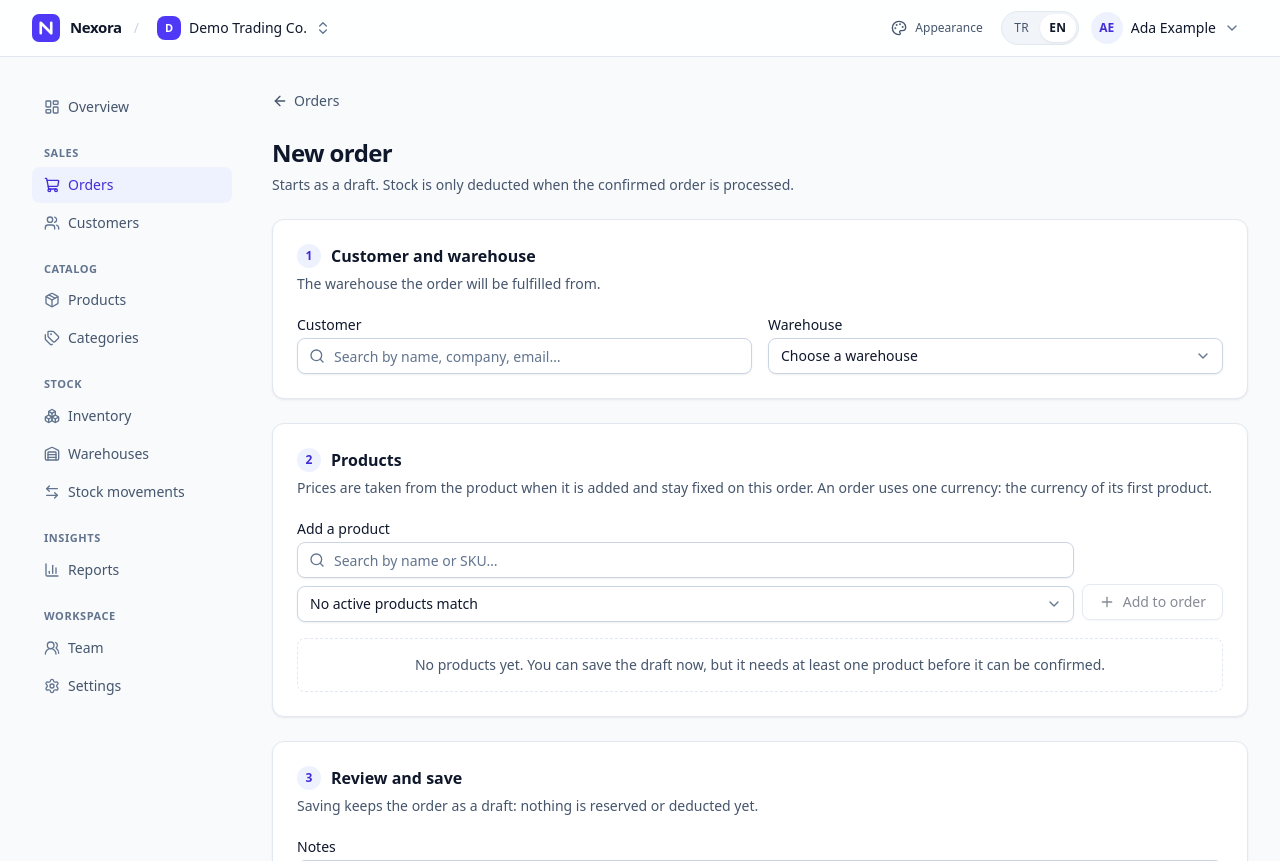
Test: CustomerPicker › shows loading while the first page is on its way
Expected: the heading "New order" is shown, [272, 136, 392, 169]
Step 1. Click the search field labelled "Customer" → click(524, 356), box [297, 338, 752, 374]
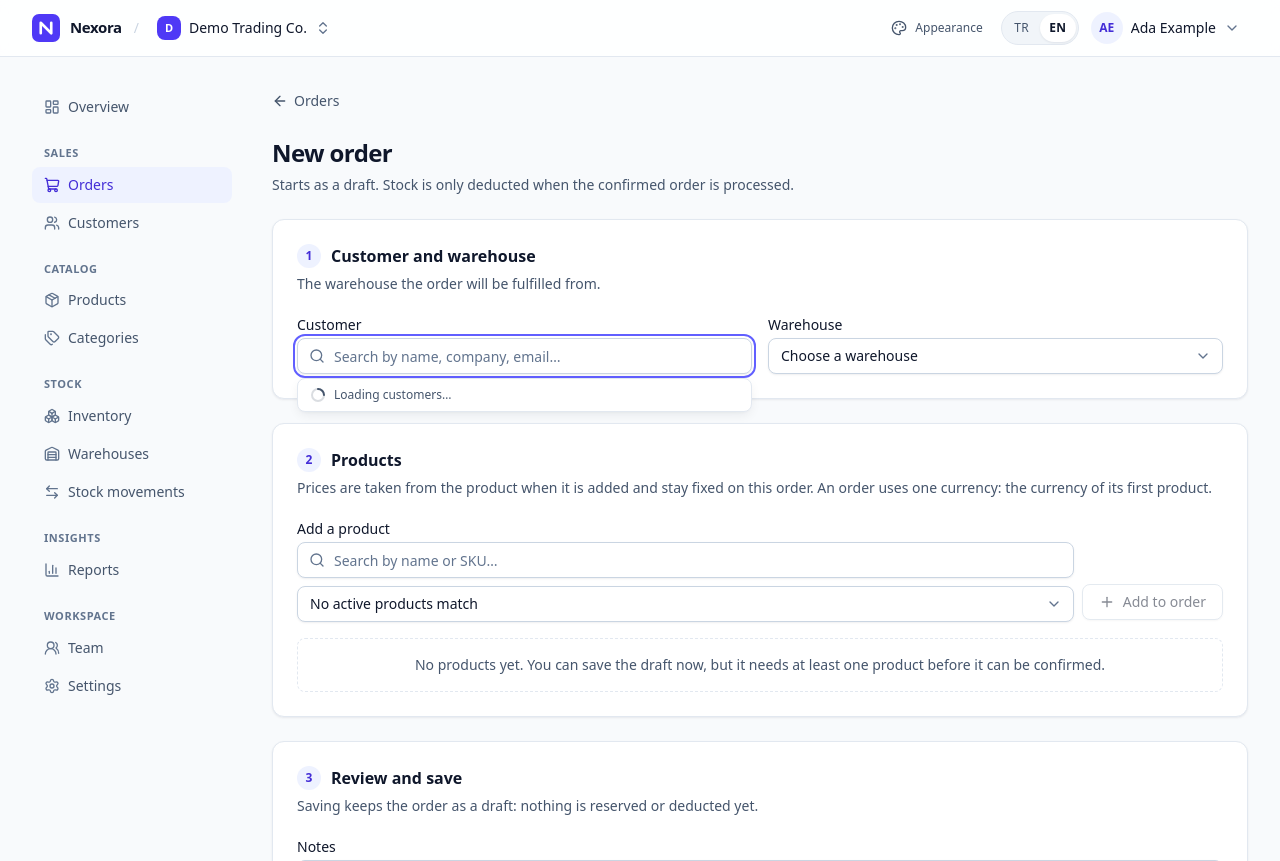
Result: the text "Loading customers…" is shown at [310, 386, 451, 403]
